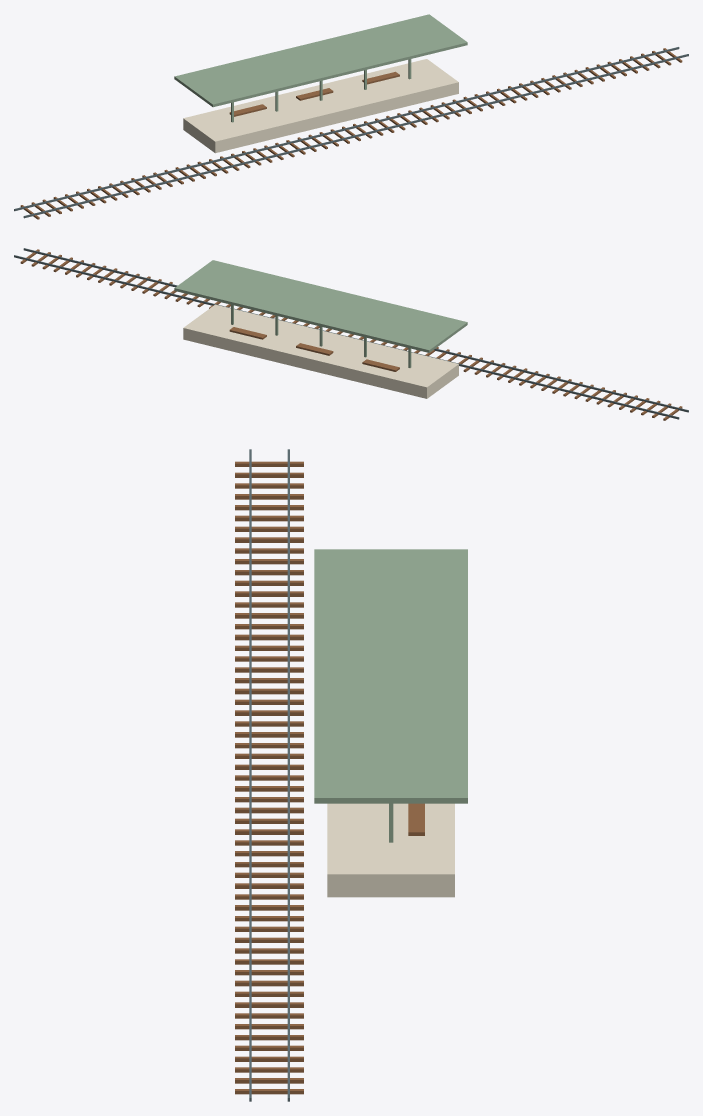
The model's file is station.glb.
3 renders of one model, top to bottom at view 1: azimuth 30°, elevation 25°; view 2: azimuth 150°, elevation 25°; view 3: azimuth 270°, elevation 25°, orthographic. The views are drawn at different scales.
Parts seen in each view (by area): view 1: Station canopy, Station platform, Rail.001, Rail; view 2: Station canopy, Station platform, Rail, Rail.001; view 3: Station canopy, Station platform, Rail, Rail.001.
Part boxes in pixels (x1,y1,x2,y2): Station canopy: [174, 14, 467, 107]; Station platform: [183, 59, 458, 153]; Rail.001: [23, 54, 688, 218]; Rail: [14, 47, 679, 211]; Station canopy: [174, 260, 467, 352]; Station platform: [183, 304, 458, 398]; Rail: [14, 255, 679, 419]; Rail.001: [23, 248, 688, 412]; Station canopy: [314, 549, 467, 803]; Station platform: [327, 803, 454, 897]; Rail: [287, 449, 289, 1101]; Rail.001: [249, 449, 251, 1101].
Size of the model in its own units: 60 by 4.58 by 9.1.
